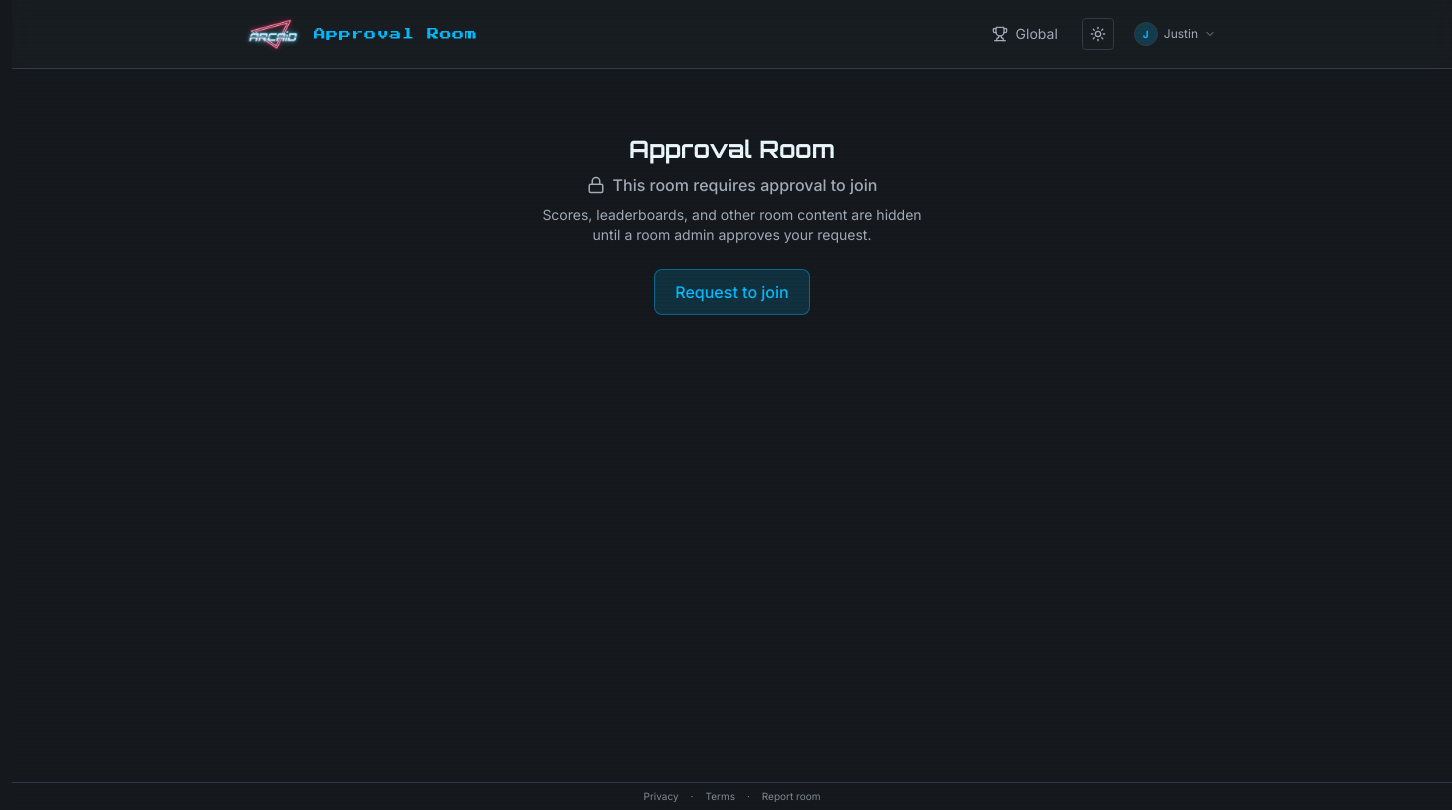
Scenario: PublicLayout › approval-room view gate › signed-in non-member, auto-approved: gate drops and room renders without a page reload
Click the button "Request to join": (732, 292) [654,269,810,315]
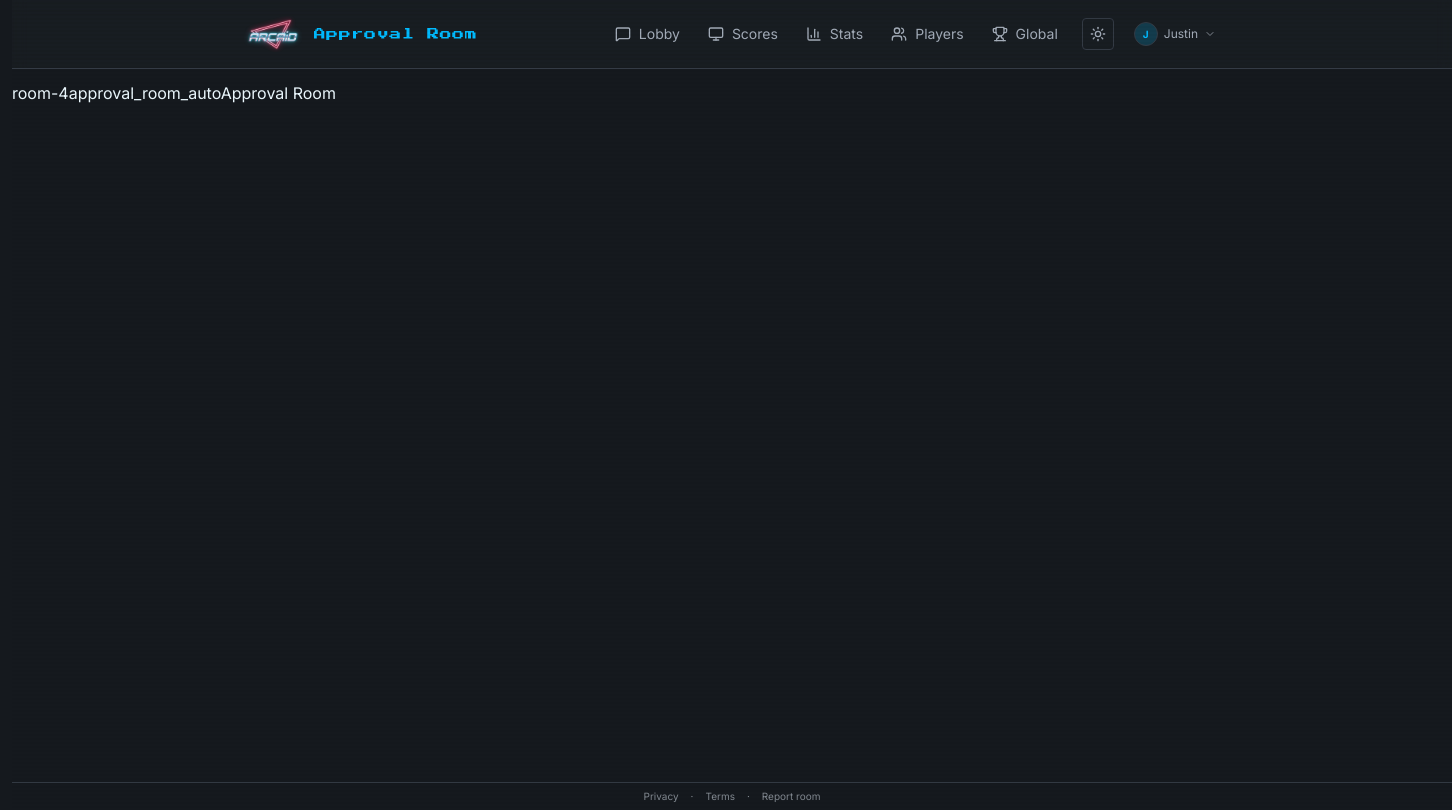
expect the text with test id "roomId" reads "room-4": met, box [12,83,69,103]
expect the text "This room requires approval to join" is gone: met
